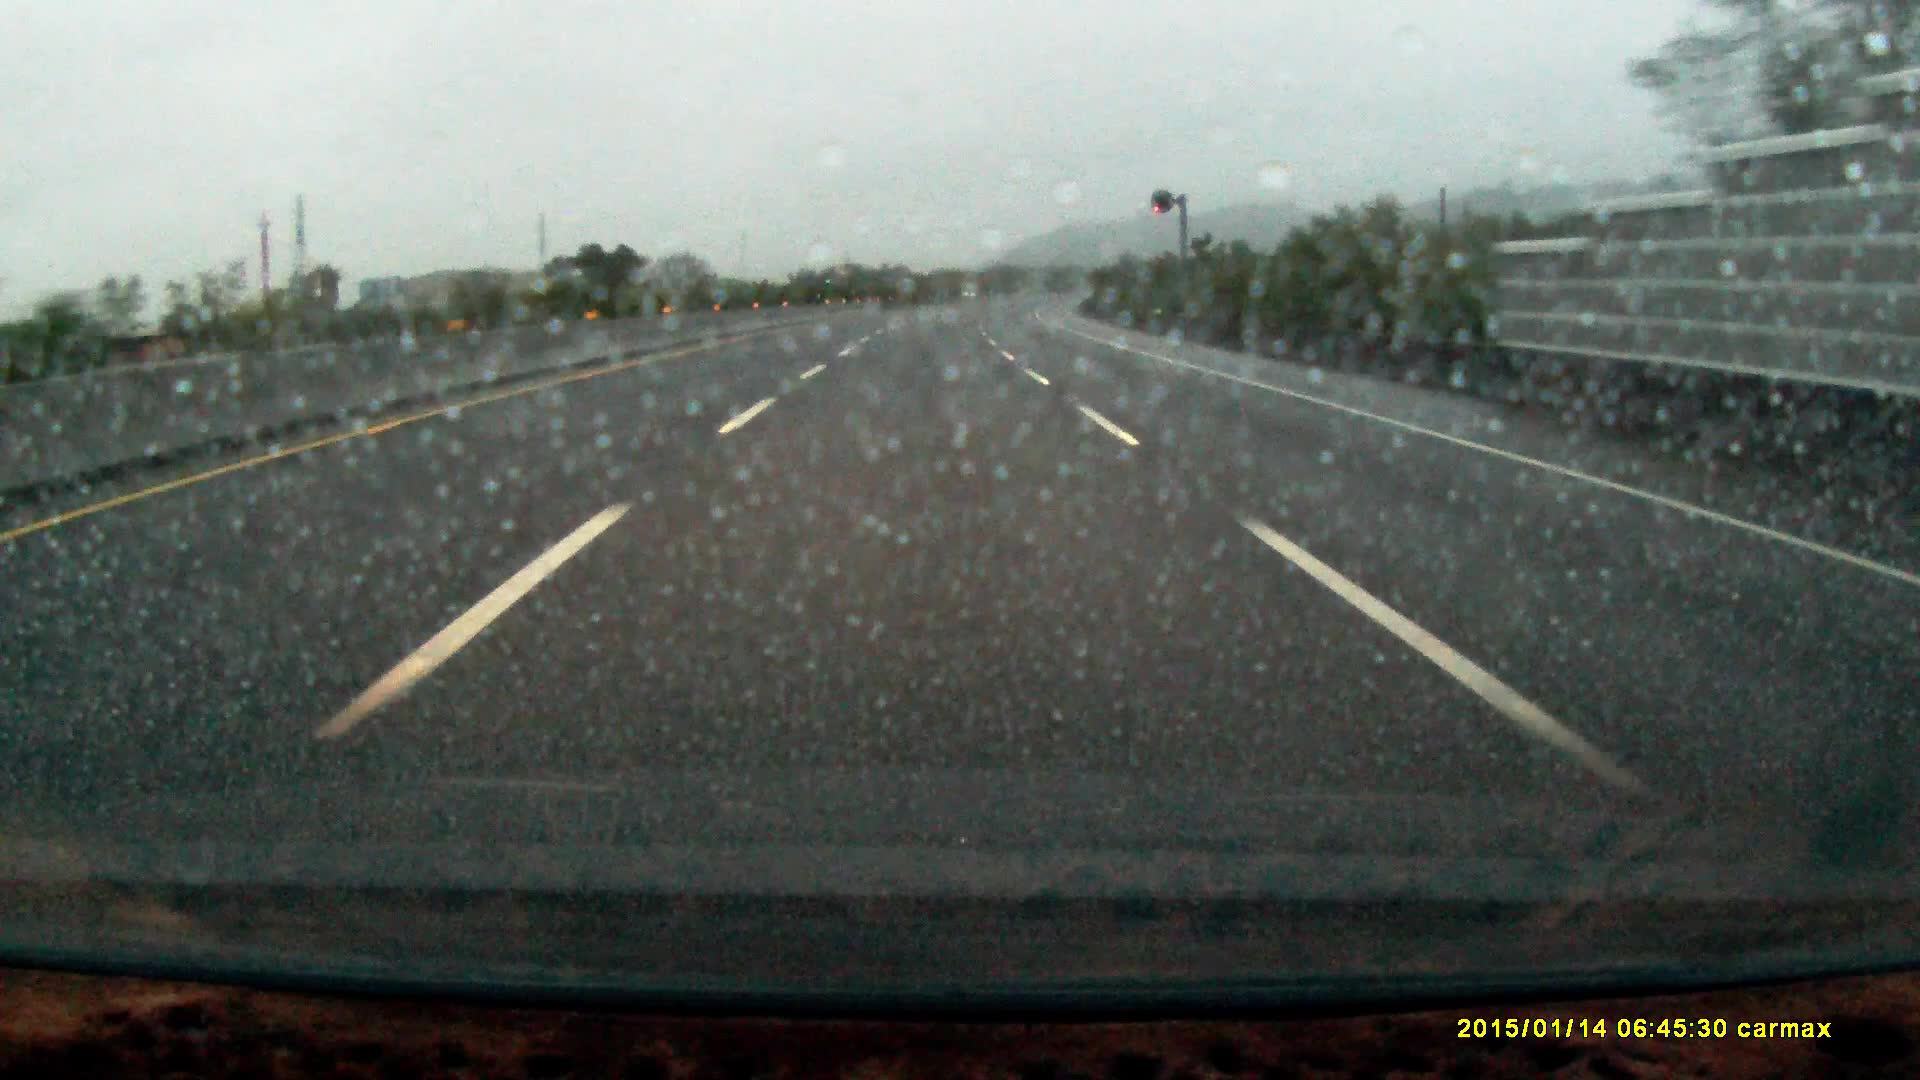vehicle: (823, 268, 862, 305)
